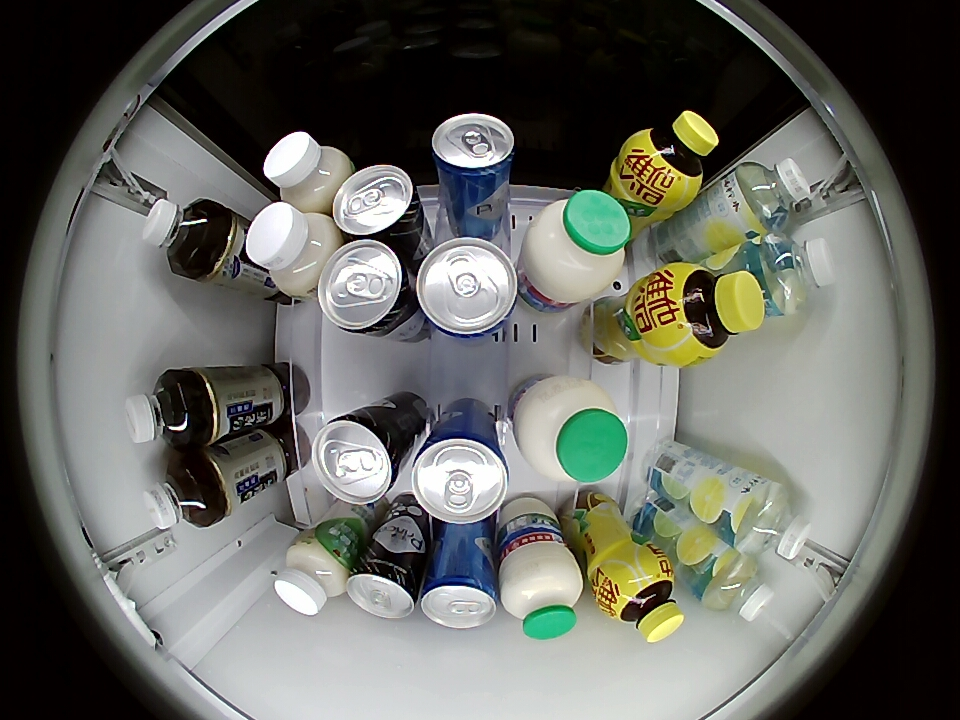liziyuan: (511, 376, 629, 485), (522, 188, 632, 304), (499, 541, 582, 641)
qingdaowangzi-1: (318, 239, 417, 337), (310, 409, 408, 506), (334, 165, 423, 243), (347, 554, 420, 619)
qingdaowangzi-2: (415, 236, 519, 339), (411, 425, 510, 526), (431, 112, 516, 192), (421, 564, 498, 629)
qinningshui: (732, 480, 812, 561), (756, 235, 836, 314), (731, 157, 813, 233), (700, 552, 775, 621)
weitaningmeng-bottle: (653, 263, 766, 365), (625, 110, 719, 202), (599, 554, 684, 644)
wulongcha: (142, 197, 220, 275), (124, 370, 197, 448), (143, 457, 218, 530)
yousuanru: (246, 202, 339, 296), (264, 131, 354, 214), (273, 536, 351, 616)
